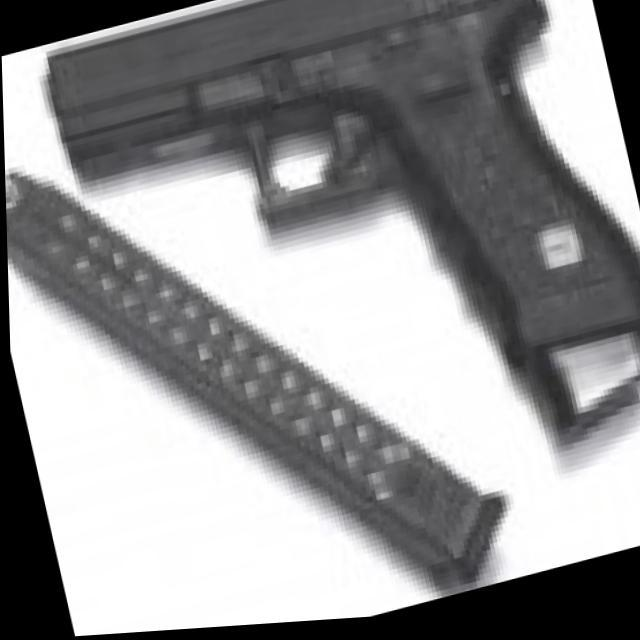weapon: (34, 0, 640, 560), (2, 60, 518, 640)
